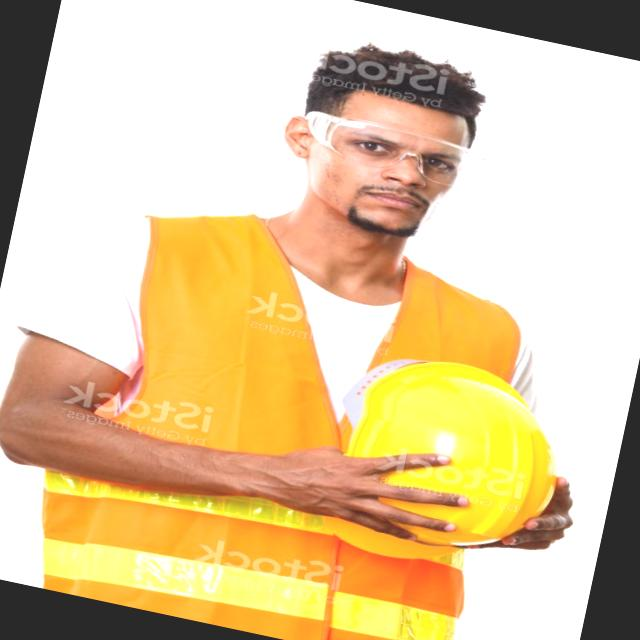goggles: (280, 99, 502, 199)
helmet: (340, 345, 596, 588)
no-helmet: (283, 12, 532, 153)
vest: (58, 193, 524, 640)
